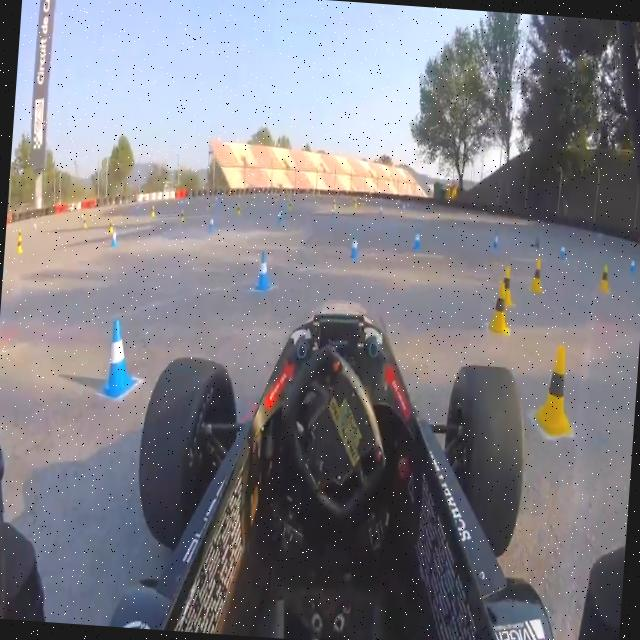blue_cone: (102, 316, 142, 400), (254, 248, 274, 292), (349, 233, 360, 260), (412, 226, 422, 251), (111, 228, 118, 246)
yellow_cone: (534, 343, 574, 438), (488, 281, 512, 335), (497, 264, 517, 310), (528, 256, 546, 294), (598, 262, 612, 294)
